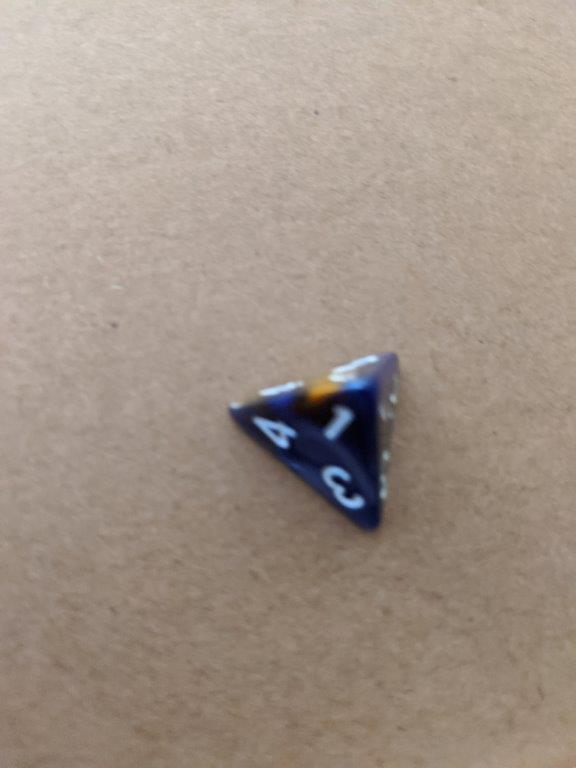d4-1: (228, 346, 399, 538)
